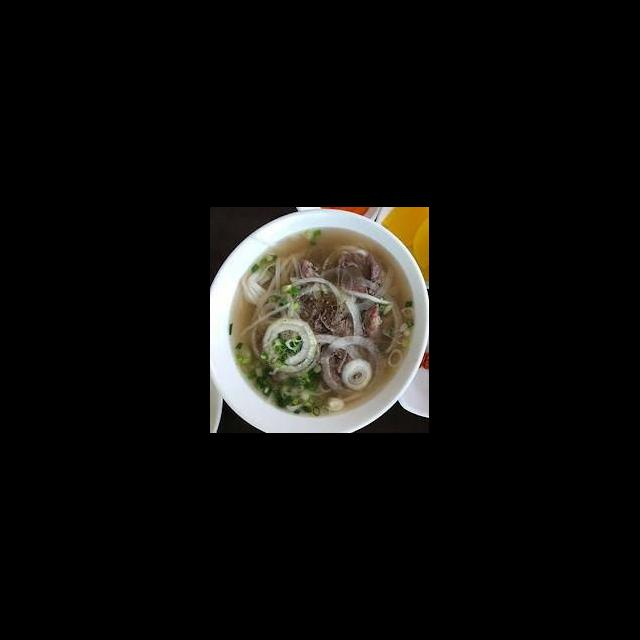banh pho: (240, 245, 310, 309)
pho bo: (210, 226, 415, 423)
thit bo: (334, 246, 384, 299), (354, 300, 386, 343)
